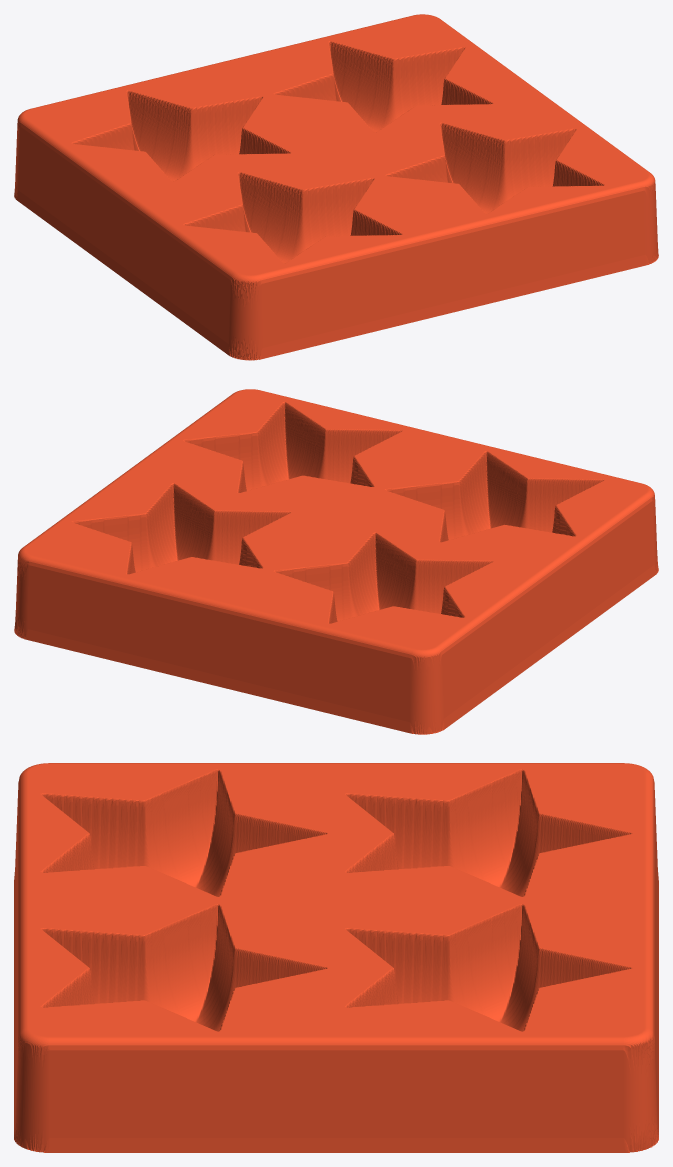
The model's file is mold.glb.
The picture shows the model from 3 angles, top to bottom: view 1: azimuth 30°, elevation 25°; view 2: azimuth 150°, elevation 25°; view 3: azimuth 270°, elevation 25°; orthographic projection. The views are drawn at different scales.
Visible parts, largest first — view 1: geometry_0; view 2: geometry_0; view 3: geometry_0.
Boxes of the visible parts, left/top/right/bottom form: geometry_0: left=14, top=14, right=658, bottom=360; geometry_0: left=14, top=389, right=658, bottom=734; geometry_0: left=14, top=763, right=658, bottom=1152.
Bounding box in the file's own units: 0.1721 × 0.031 × 0.1647.
